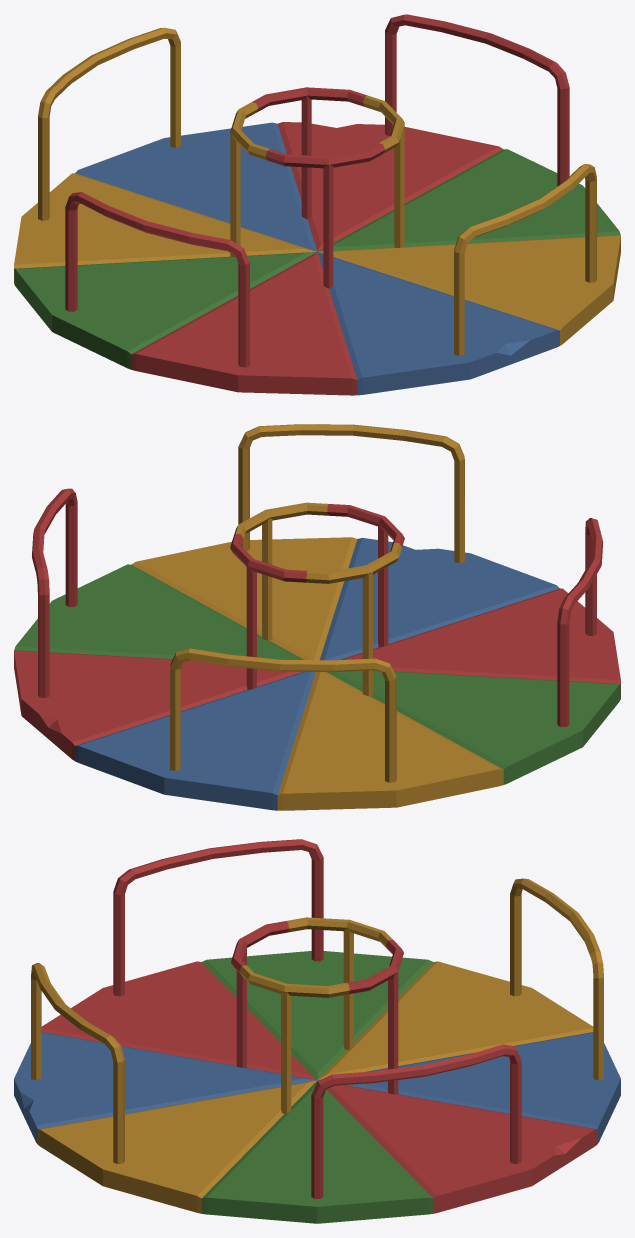
File: SM_Props_City_PlayGround_Equipment_MerryGoRound.fbx
The picture shows the model from 3 angles, top to bottom: view 1: azimuth 30°, elevation 25°; view 2: azimuth 150°, elevation 25°; view 3: azimuth 270°, elevation 25°; orthographic projection.
Visible parts, largest first — view 1: SM_Props_City_PlayGround_Equipment_MerryGoRound; view 2: SM_Props_City_PlayGround_Equipment_MerryGoRound; view 3: SM_Props_City_PlayGround_Equipment_MerryGoRound.
Part boxes in pixels (box(x1,y1,x2,y2)): SM_Props_City_PlayGround_Equipment_MerryGoRound: box(14, 14, 620, 395); SM_Props_City_PlayGround_Equipment_MerryGoRound: box(14, 424, 620, 810); SM_Props_City_PlayGround_Equipment_MerryGoRound: box(14, 839, 620, 1223).
Bounding box in the file's own units: 240 × 69.28 × 240.
